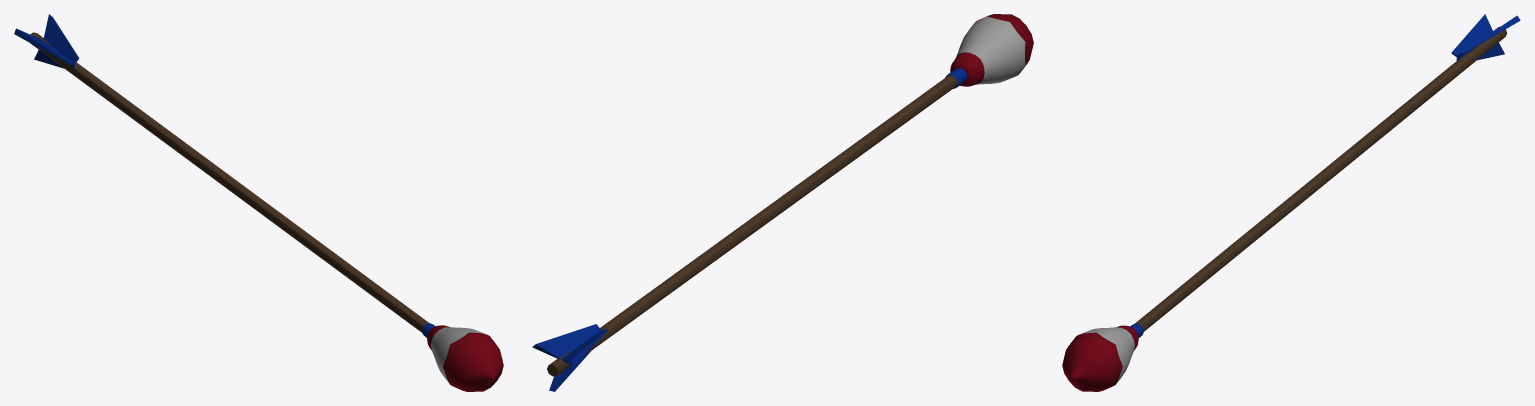
File: Arrow.fbx
The picture shows the model from 3 angles, left to right: view 1: azimuth 30°, elevation 25°; view 2: azimuth 150°, elevation 25°; view 3: azimuth 330°, elevation 25°; orthographic projection. The views are drawn at different scales.
Visible parts, largest first — view 1: Arrow, Bomb; view 2: Arrow, Bomb; view 3: Arrow, Bomb.
Part boxes in pixels (left/top/right/bottom): Arrow: left=14, top=14, right=435, bottom=337; Bomb: left=427, top=325, right=503, bottom=391; Arrow: left=532, top=68, right=967, bottom=391; Bomb: left=950, top=14, right=1033, bottom=86; Arrow: left=1130, top=14, right=1520, bottom=337; Bomb: left=1062, top=325, right=1138, bottom=391.
Bounding box in the file's own units: 0.2041 × 0.2111 × 2.63.
